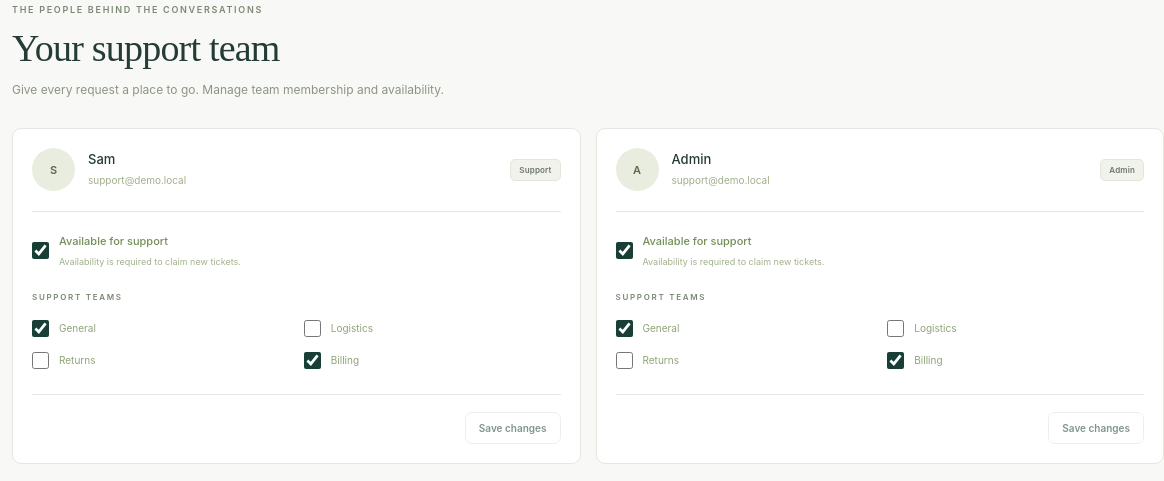
Scenario: admin team refresh › reflects changed server membership when another member save reloads the team list
The width and height of the screenshot is (1164, 481).
Step 1. Click the 2nd checkbox labelled "Available for support" → (624, 251), box [616,242,632,259]
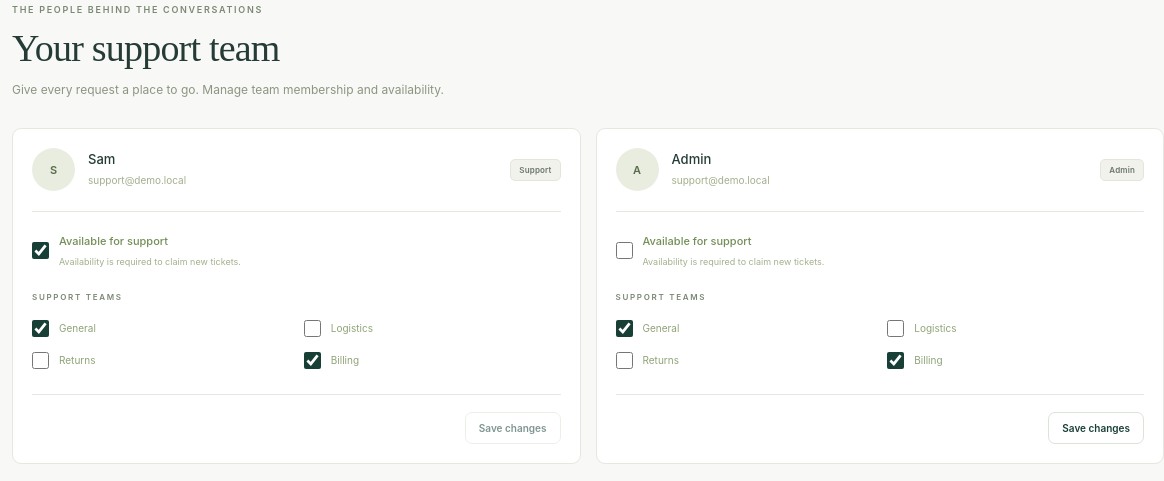
Step 2. Click the 2nd button "Save changes" → (1096, 428), box [1048,412,1144,444]
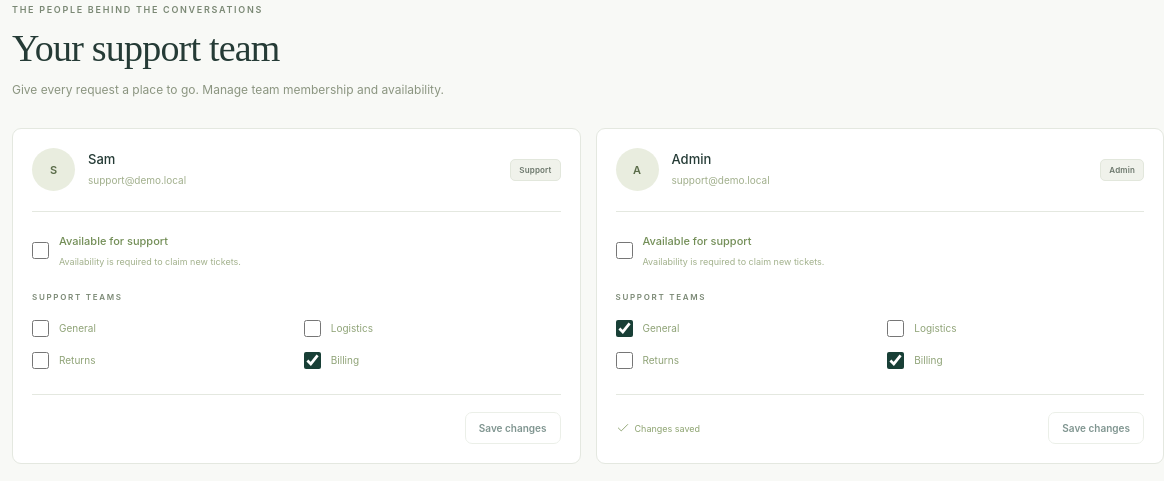
Expected: the checkbox labelled "Billing" below "Sam" is checked, [304,352,321,369]
Now the checkbox labelled "Available for support" below "Sam" is not checked, box [32,242,49,259]
Now the checkbox labelled "General" below "Sam" is not checked, box [32,320,49,337]
